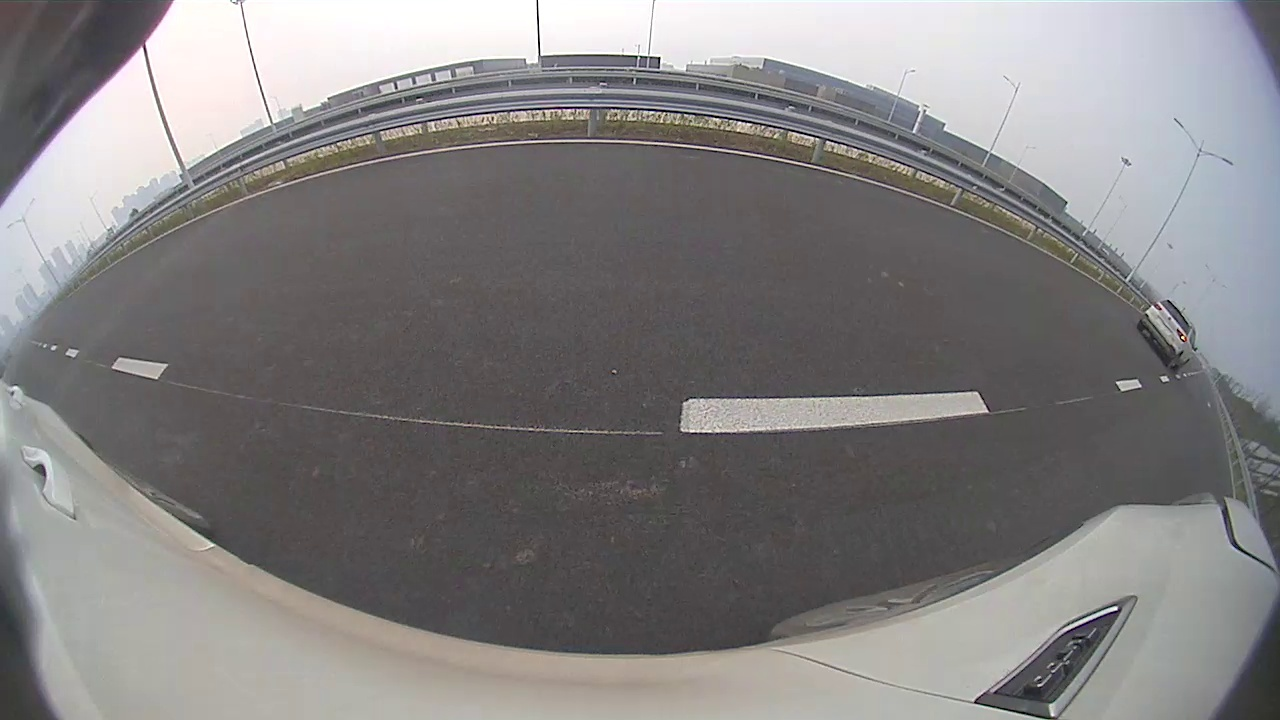car: (1137, 299, 1198, 368)
